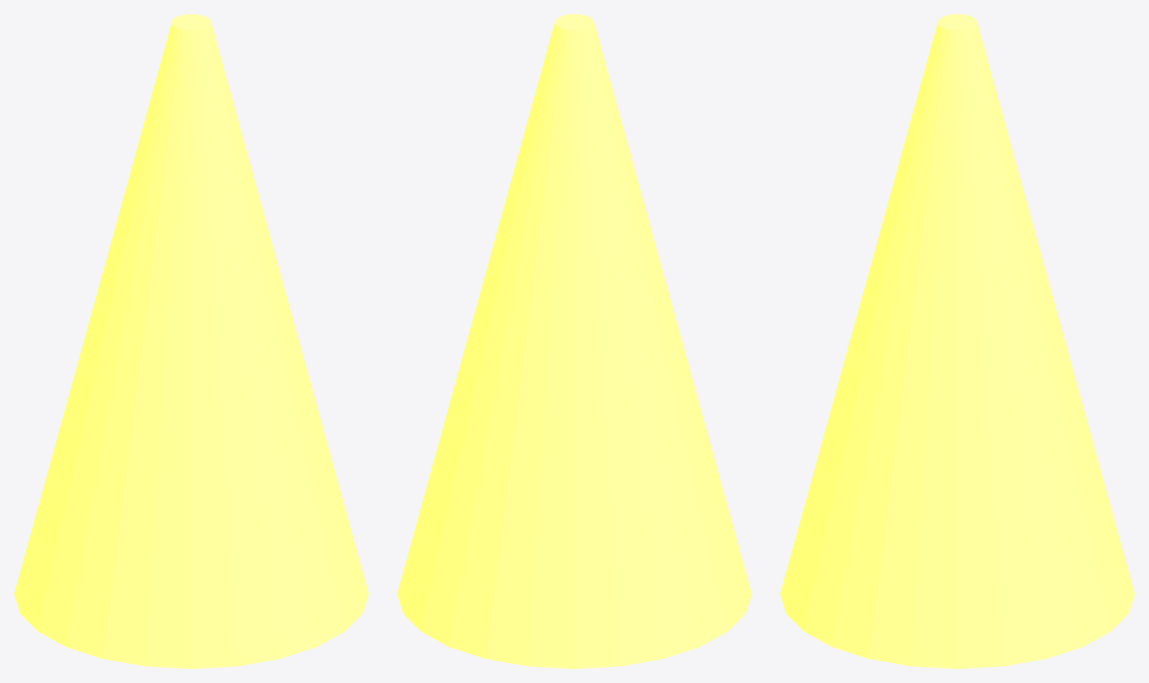
The model's file is flame_lunar.glb.
The picture shows the model from 3 angles, left to right: view 1: azimuth 30°, elevation 25°; view 2: azimuth 150°, elevation 25°; view 3: azimuth 270°, elevation 25°; orthographic projection.
Visible parts, largest first — view 1: Flame_016g_Elongated_Plume; view 2: Flame_016g_Elongated_Plume; view 3: Flame_016g_Elongated_Plume.
Part boxes in pixels (left/top/right/bottom): Flame_016g_Elongated_Plume: left=14, top=14, right=368, bottom=668; Flame_016g_Elongated_Plume: left=397, top=14, right=751, bottom=668; Flame_016g_Elongated_Plume: left=780, top=14, right=1134, bottom=668.
Bounding box in the file's own units: 0.9 × 1.6 × 0.9.
